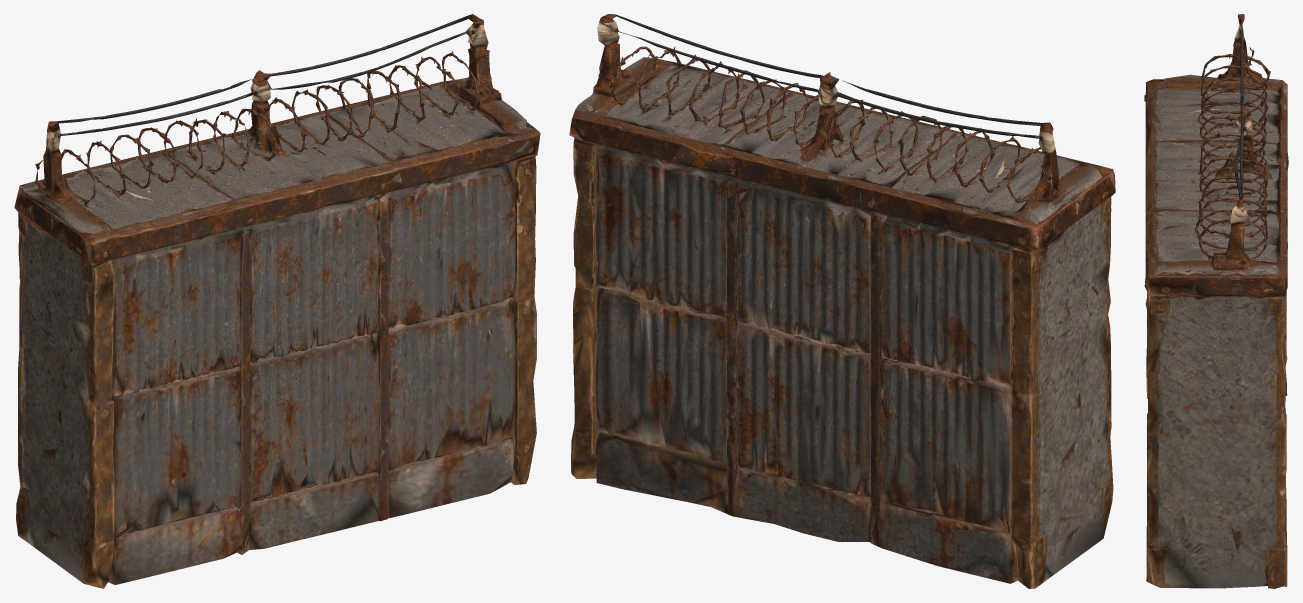
Rendered from metal-wall.glb.
3 renders of one model, left to right at view 1: azimuth 30°, elevation 25°; view 2: azimuth 150°, elevation 25°; view 3: azimuth 270°, elevation 25°, orthographic. The views are drawn at different scales.
Bounding box in the file's own units: 1.9 × 1.74 × 0.5836.
Materials: 1 (1 with a texture image).
